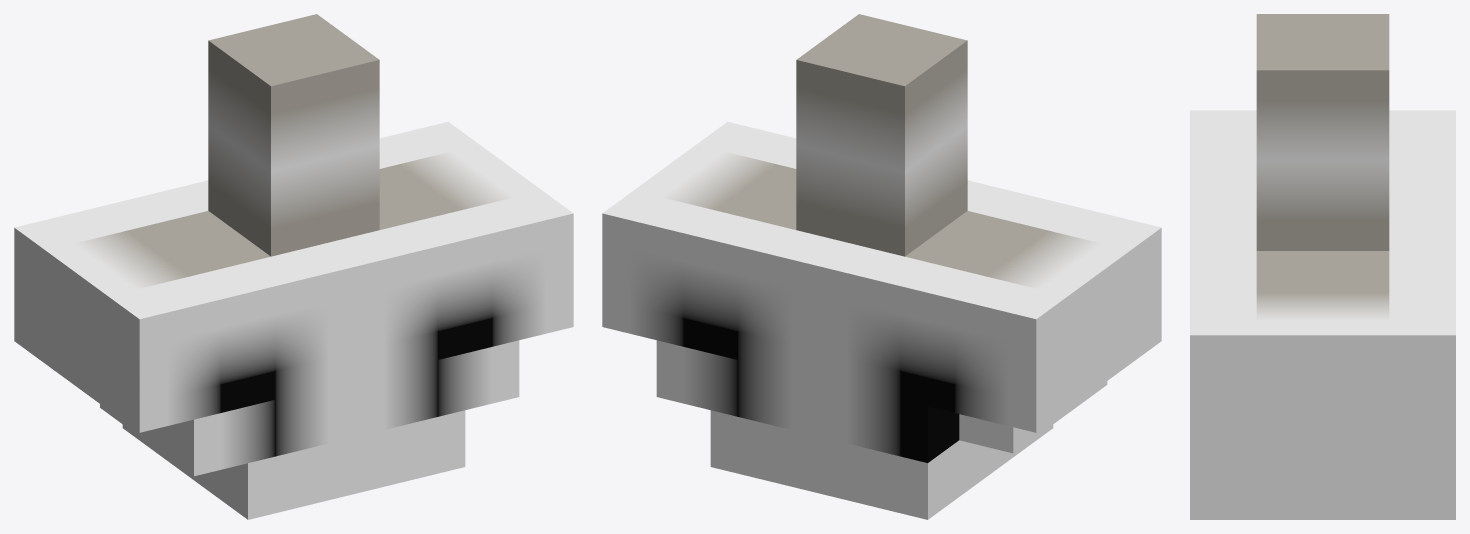
The model's file is skeleton_pelvis.fbx.
3 views of the same model, side by side, from view 1: azimuth 30°, elevation 25°; view 2: azimuth 150°, elevation 25°; view 3: azimuth 270°, elevation 25° (orthographic). The views are drawn at different scales.
Parts seen in each view (by area): view 1: skeleton_pelvis; view 2: skeleton_pelvis; view 3: skeleton_pelvis.
Boxes of the visible parts, box(x1,y1,x2,y2) form: skeleton_pelvis: box(14, 14, 573, 519); skeleton_pelvis: box(602, 14, 1161, 519); skeleton_pelvis: box(1190, 14, 1455, 519).
Bounding box in the file's own units: 8 × 7 × 4.
Materials: 1 (1 with a texture image).
